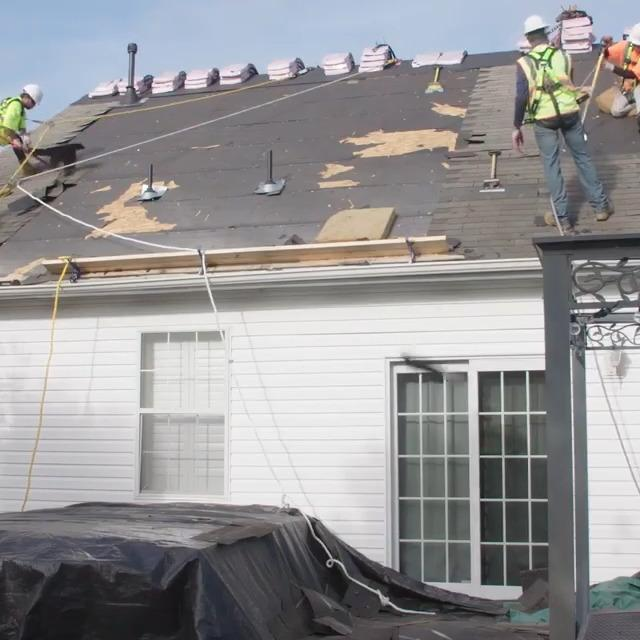Gloves: (511, 131, 525, 151), (600, 34, 614, 50), (602, 62, 615, 72), (13, 138, 23, 150), (23, 135, 31, 145)
Hardhat: (522, 14, 550, 34), (23, 85, 44, 104), (628, 21, 640, 44)
Person: (513, 15, 615, 232), (0, 84, 44, 197), (601, 21, 640, 133)
Safety Vest: (519, 44, 580, 114), (0, 96, 26, 141), (621, 45, 640, 87)
